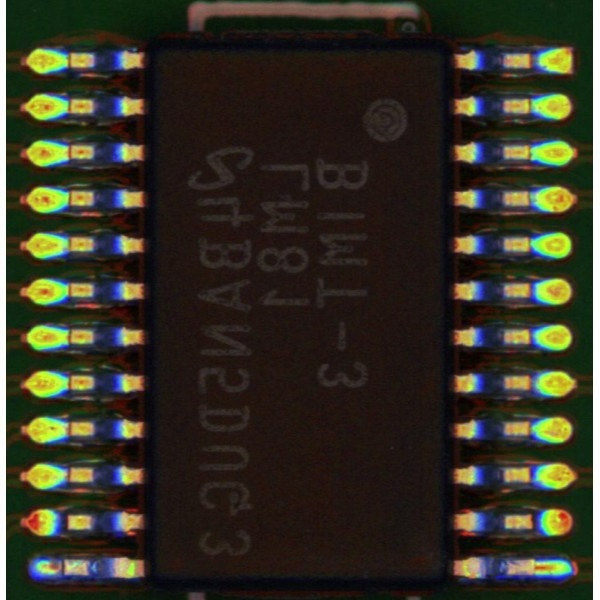Bad_podu: (48, 564, 77, 575), (523, 564, 549, 574)
